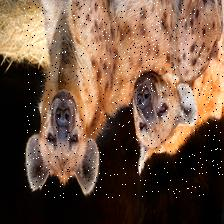hyena: (23, 0, 212, 198), (130, 41, 224, 176)
